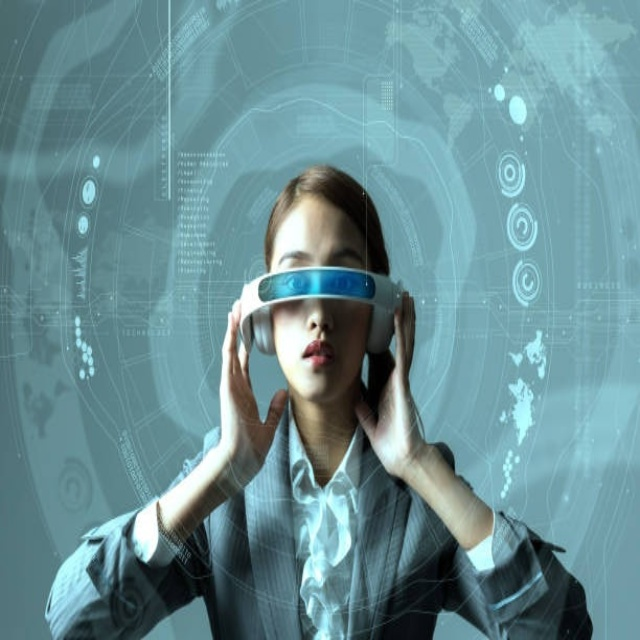Sin_guantes: (206, 302, 287, 498), (353, 294, 430, 479)
Sin_mascara: (295, 334, 339, 395)
